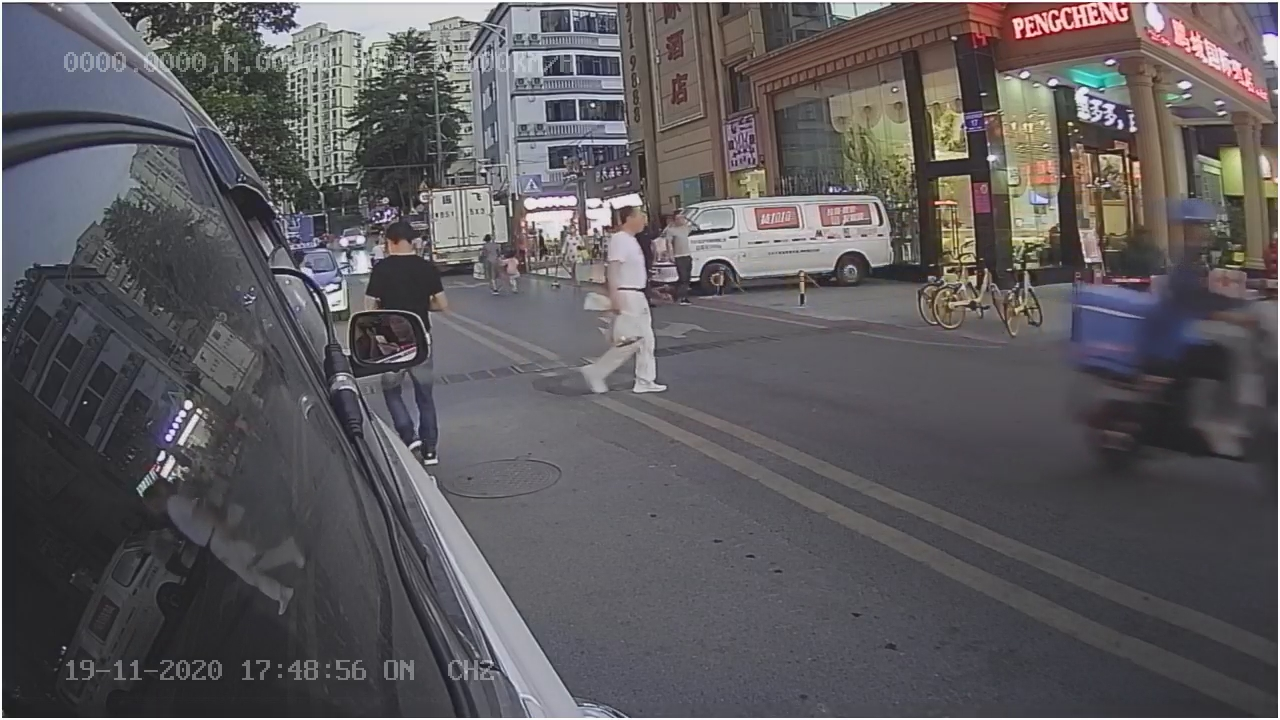person: (576, 207, 669, 409)
